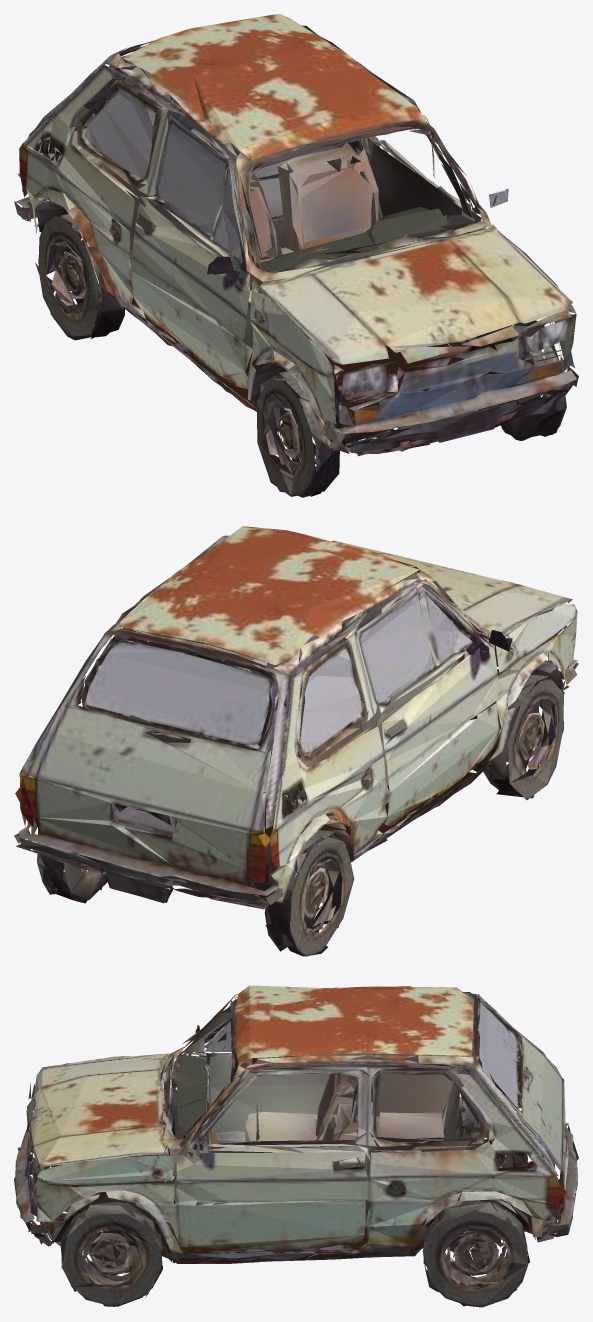
Rendered from car_wreck.glb.
3 renders of one model, top to bottom at view 1: azimuth 30°, elevation 25°; view 2: azimuth 150°, elevation 25°; view 3: azimuth 270°, elevation 25°, orthographic. The views are drawn at different scales.
Parts seen in each view (by area): view 1: world; view 2: world; view 3: world.
Boxes of the visible parts, x1=… form: world: x1=14, y1=14, x2=578, y2=497; world: x1=14, y1=526, x2=578, y2=956; world: x1=14, y1=985, x2=578, y2=1307.
Bounding box in the file's own units: 1.04 × 0.9412 × 1.99.
Materials: 1 (1 with a texture image).
